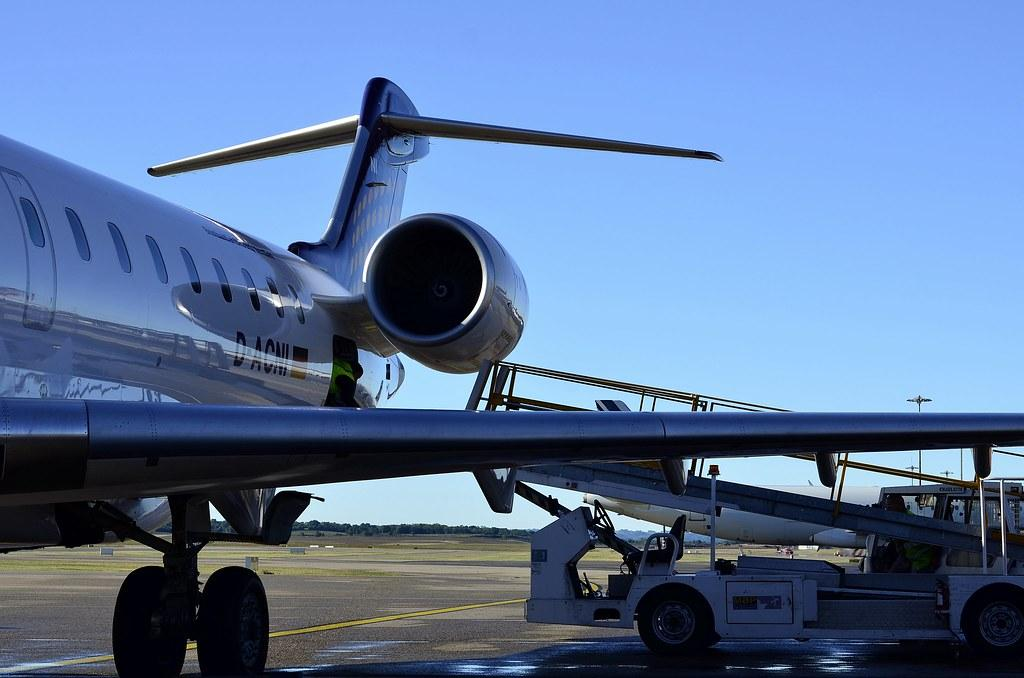plane: (1, 76, 1023, 675)
